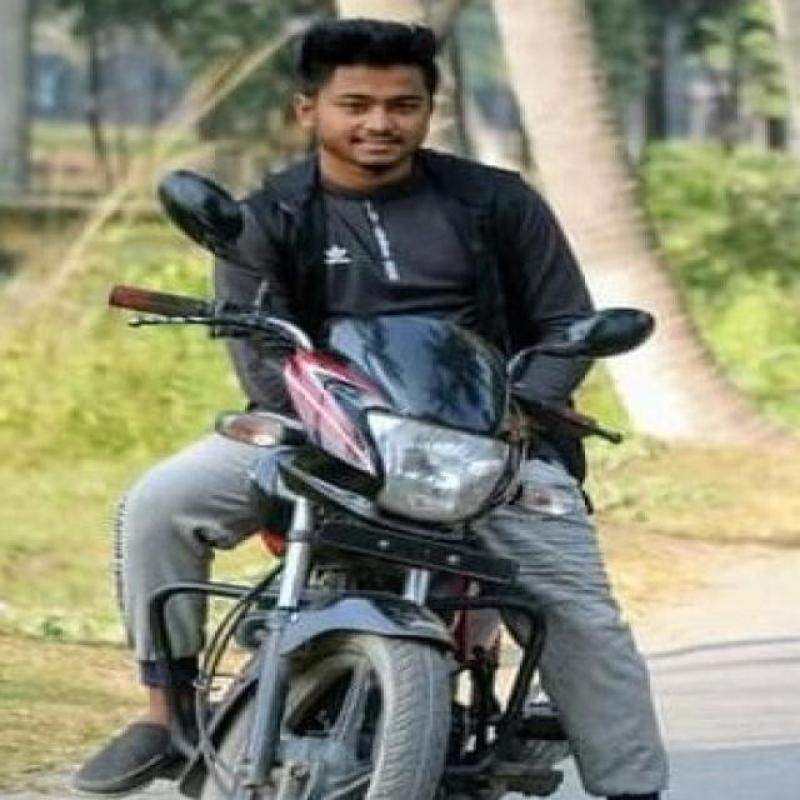nohelmet: (278, 7, 458, 193)
